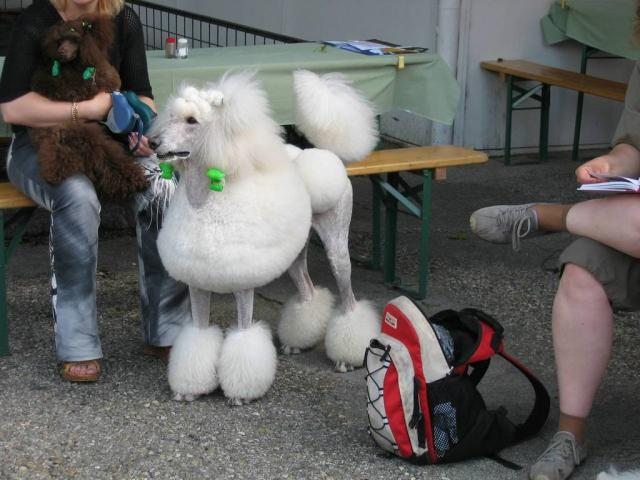Dog: (148, 65, 384, 412), (30, 14, 148, 199)
